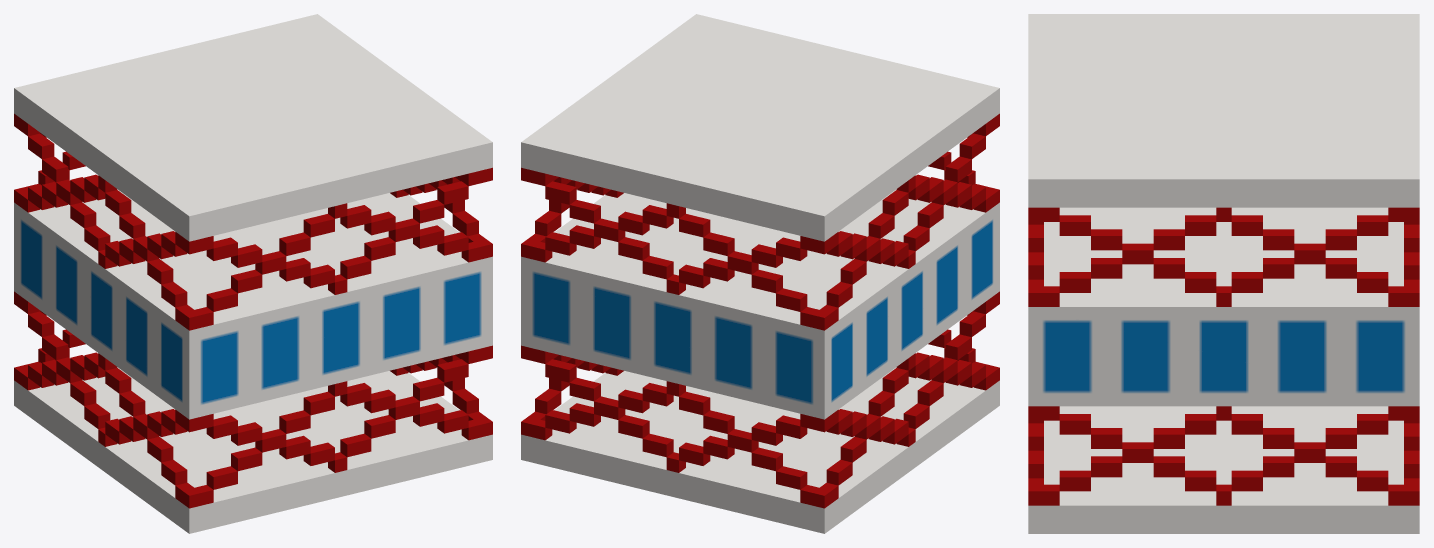
File: sixteenthModel.fbx
The picture shows the model from 3 angles, left to right: view 1: azimuth 30°, elevation 25°; view 2: azimuth 150°, elevation 25°; view 3: azimuth 270°, elevation 25°; orthographic projection. The views are drawn at different scales.
Visible parts, largest first — view 1: Box; view 2: Box; view 3: Box.
Part boxes in pixels (bbox=[...]): Box: bbox=[14, 14, 492, 533]; Box: bbox=[521, 14, 999, 533]; Box: bbox=[1028, 14, 1419, 533].
Size of the model in its own units: 25 by 25 by 25.
Materials: 1 (1 with a texture image).
